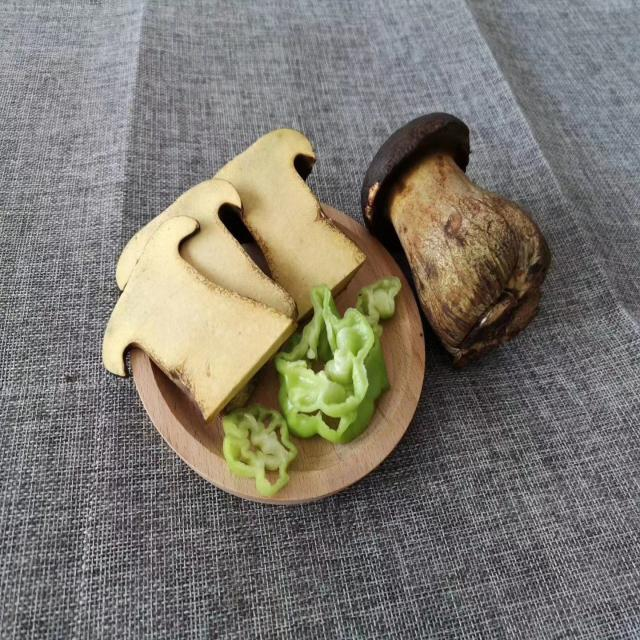Boletus: (105, 129, 363, 412), (363, 111, 547, 350)
